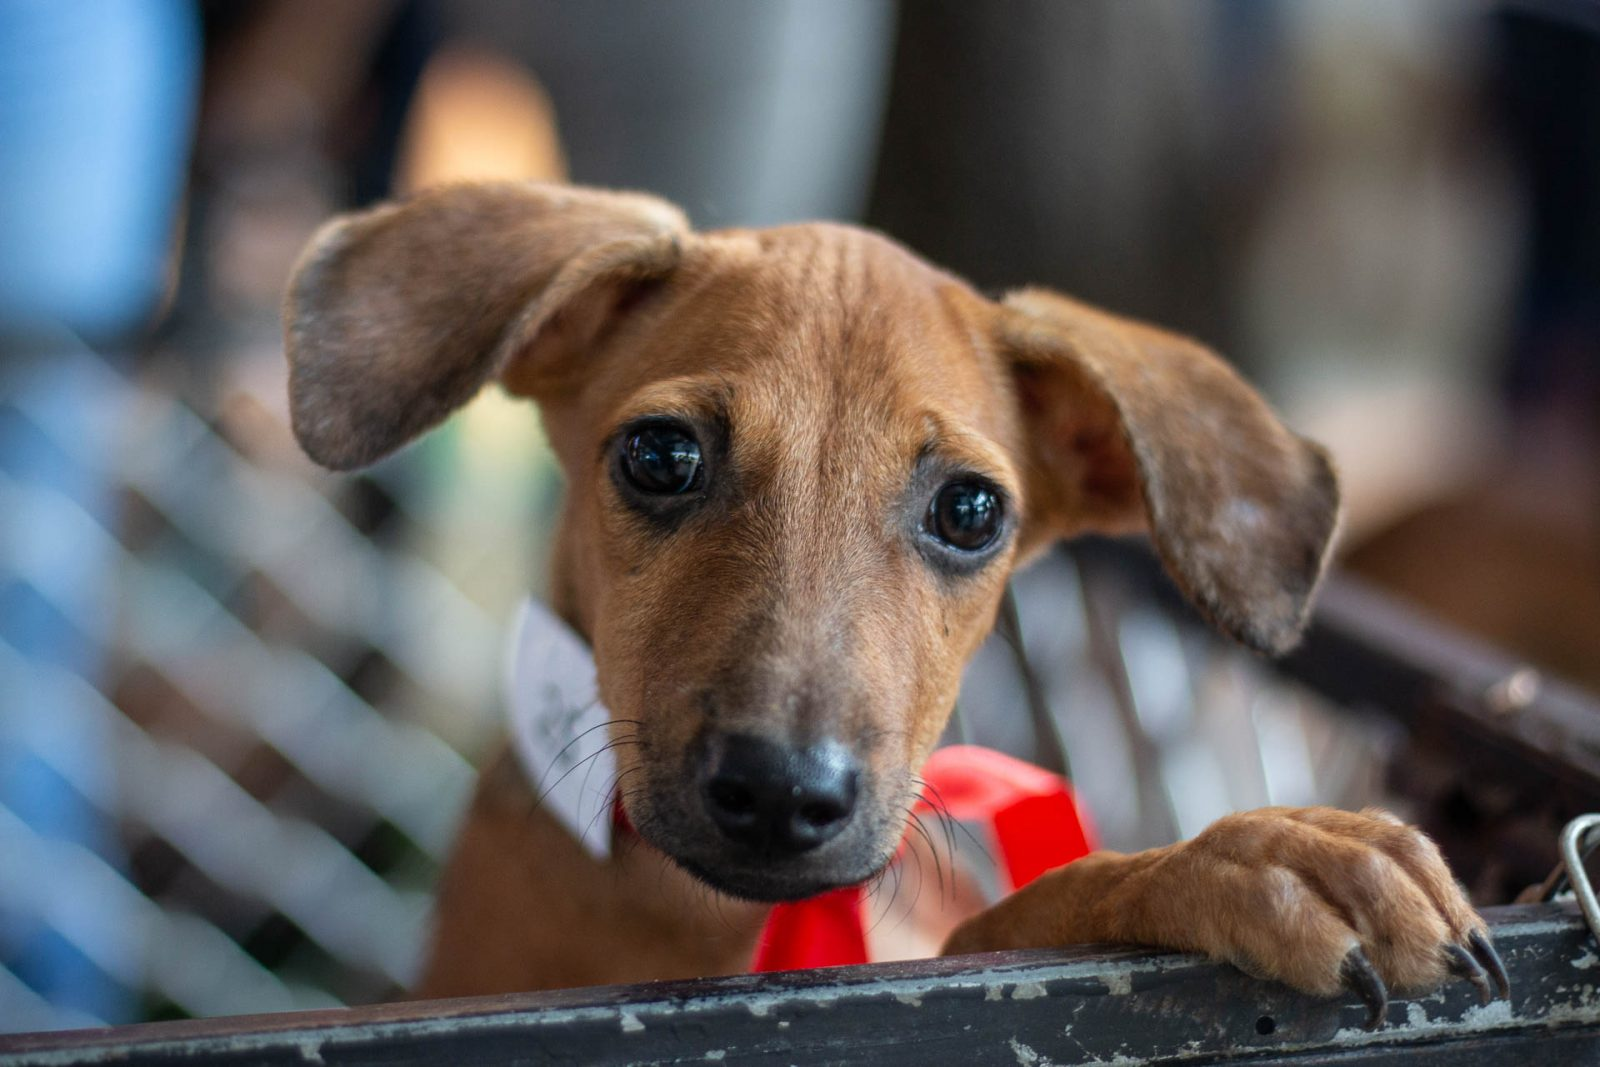Dog: (260, 123, 1411, 871)
